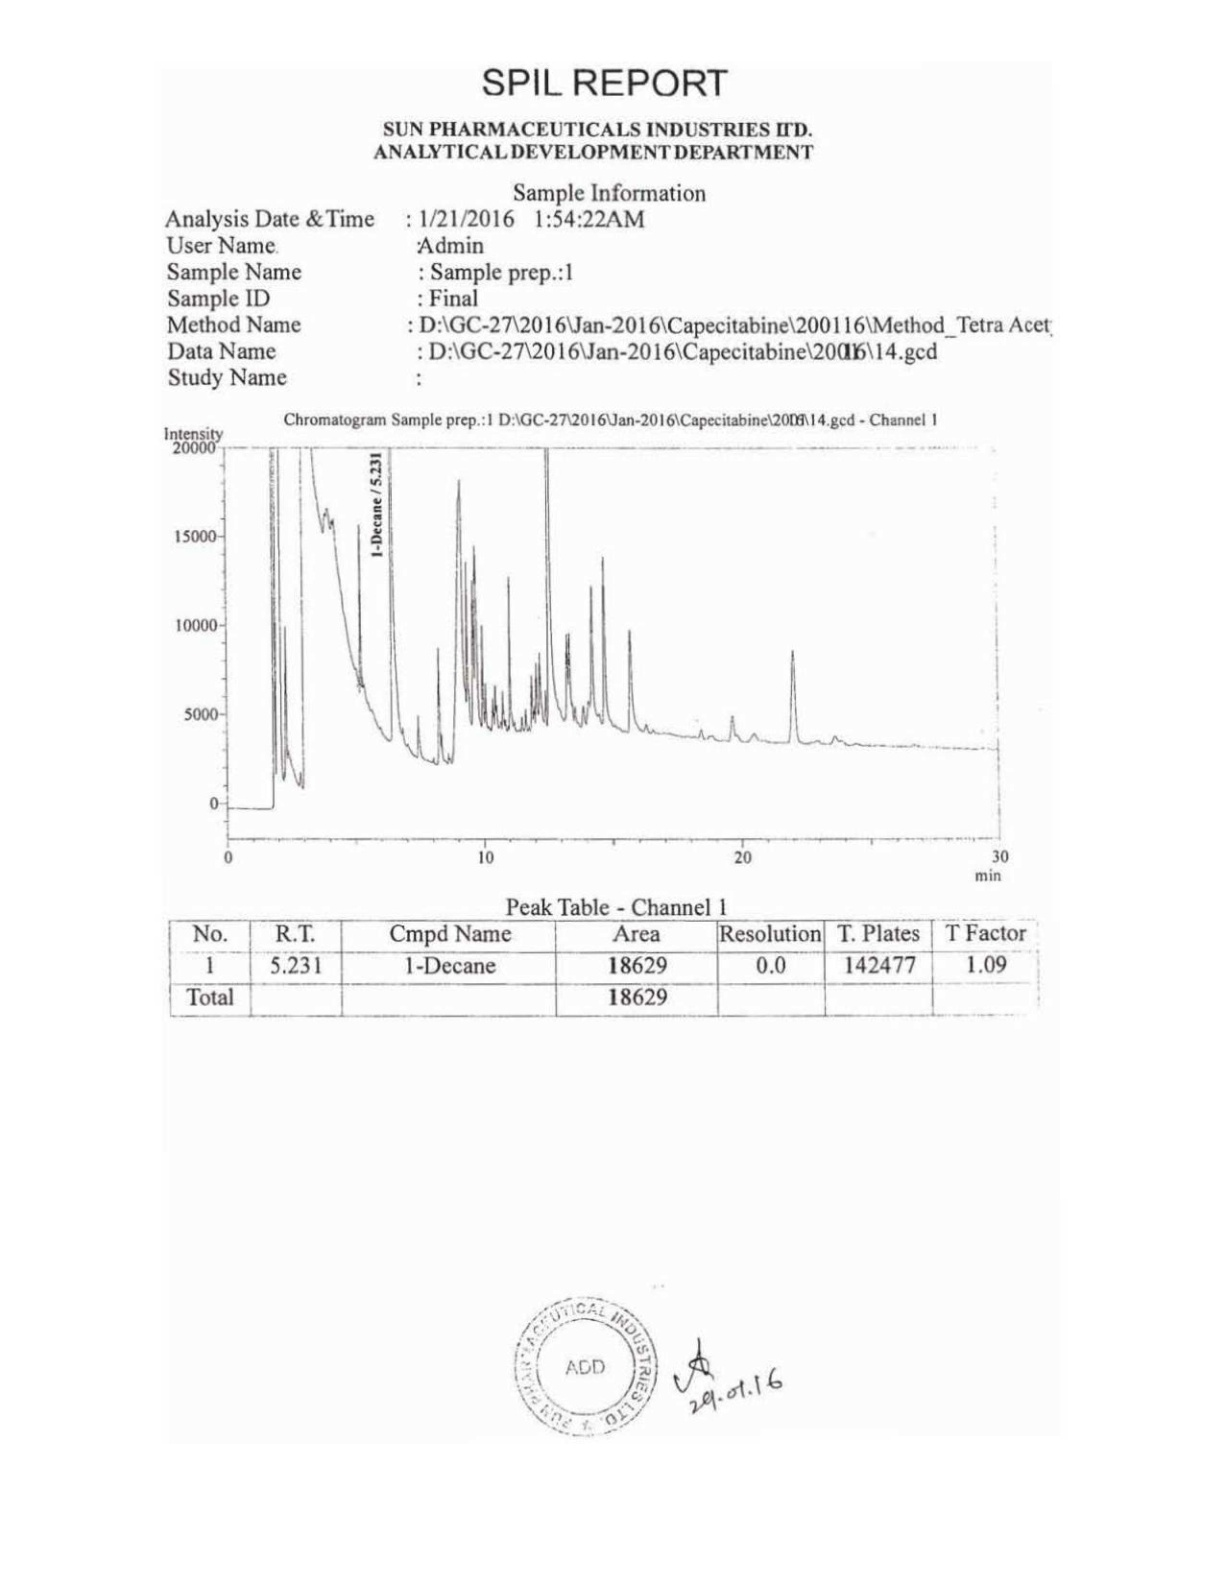full_lined: (166, 917, 1045, 1022)
nolines: (161, 205, 1070, 392)
